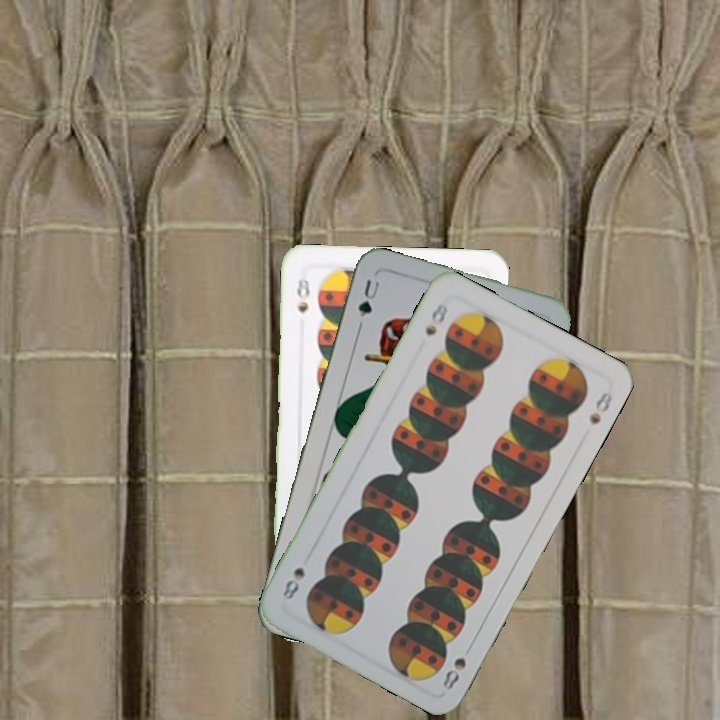GU: (354, 275, 382, 320)
S8: (439, 653, 469, 693), (421, 298, 450, 338), (293, 271, 313, 315)
